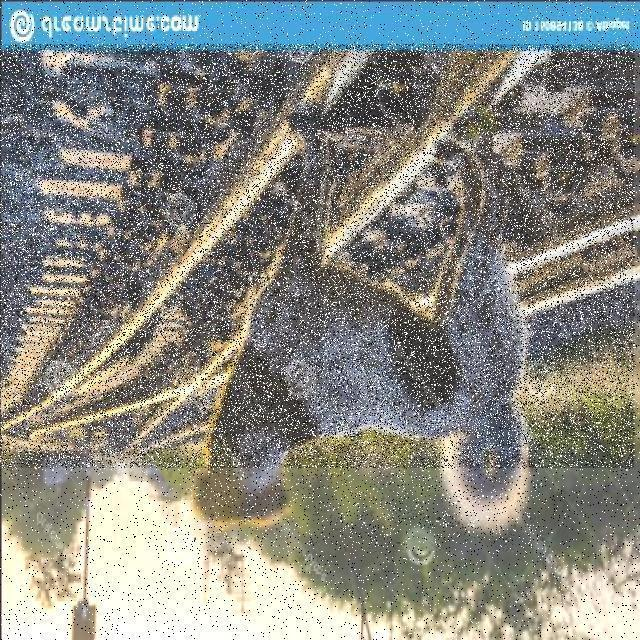rail: (2, 46, 635, 469)
